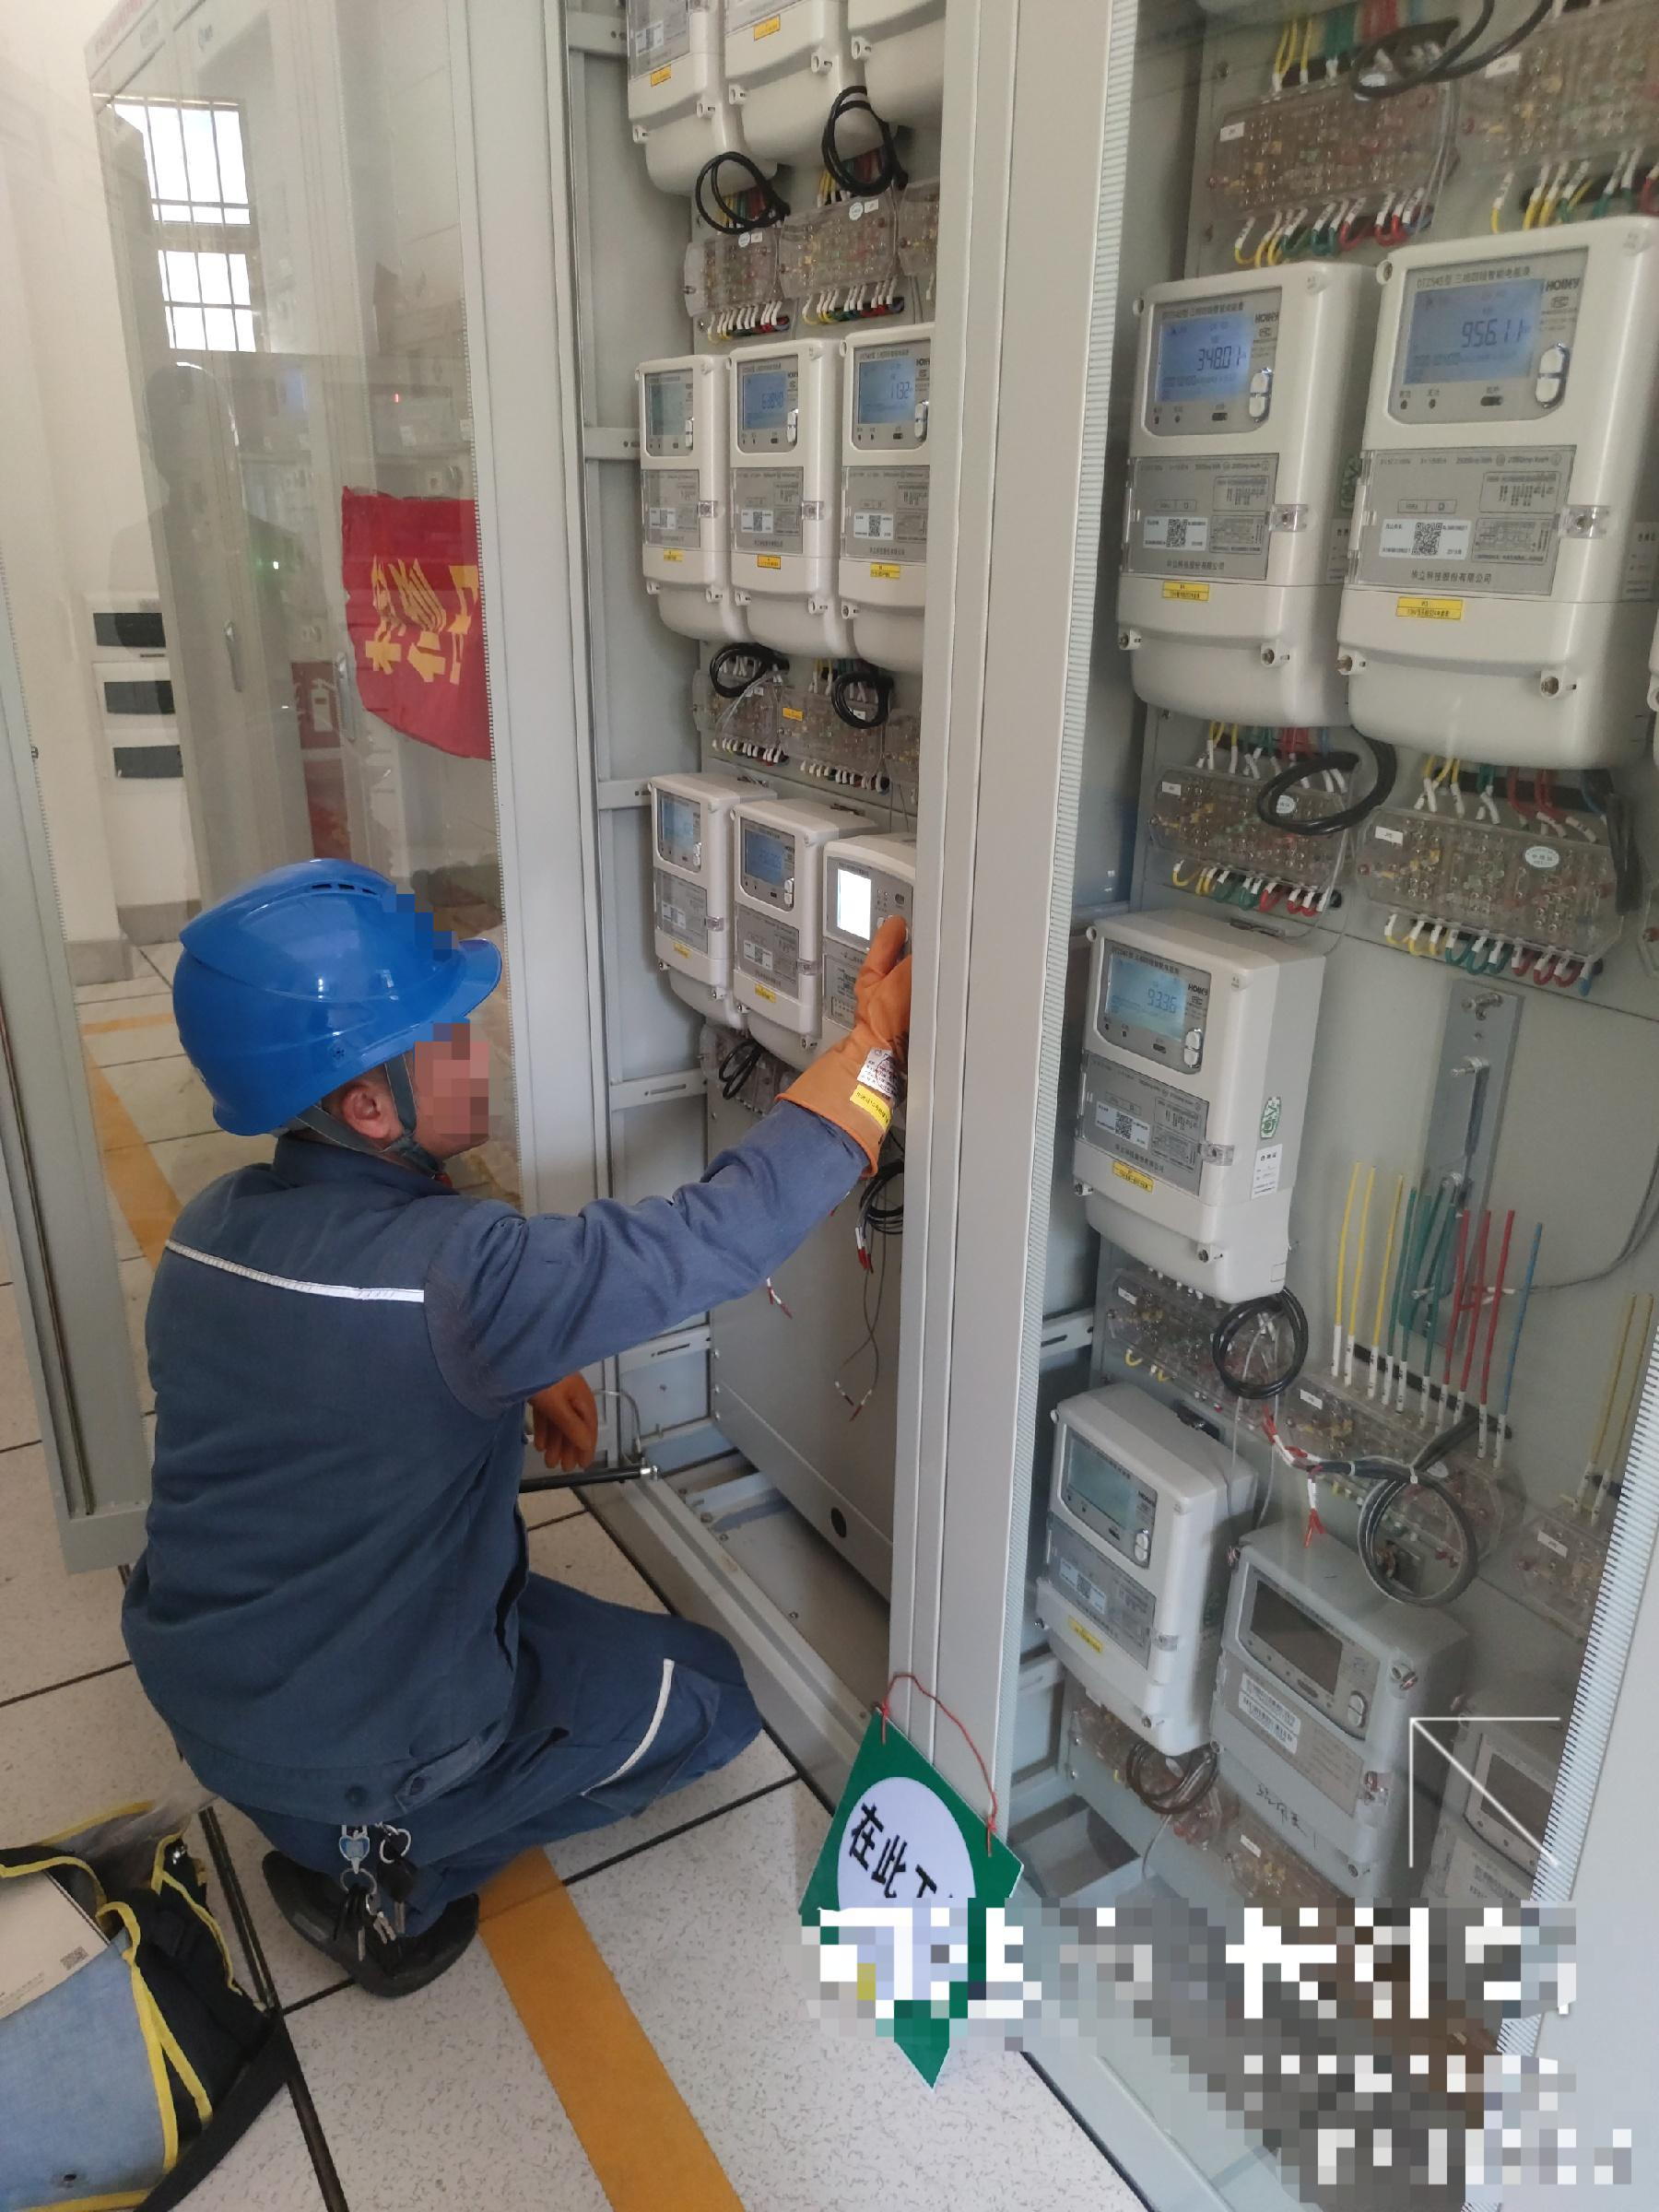halt: (169, 862, 512, 1165)
inear: (300, 1066, 437, 1174)
